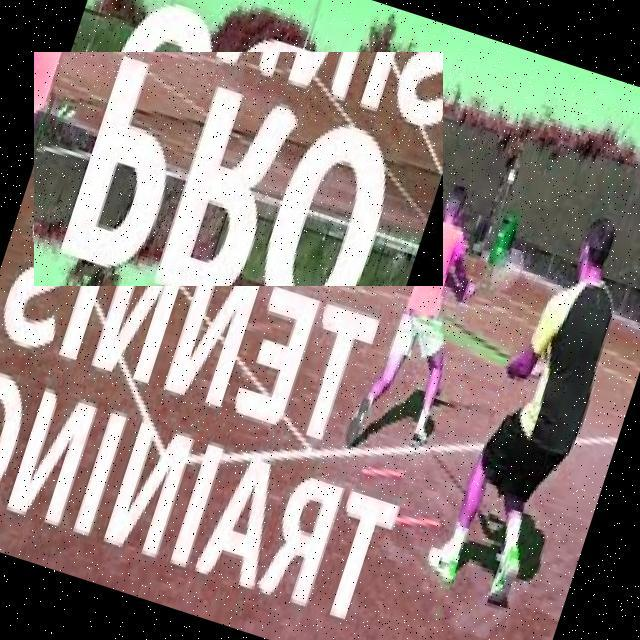net: (34, 52, 443, 286)
player: (324, 142, 556, 488)
